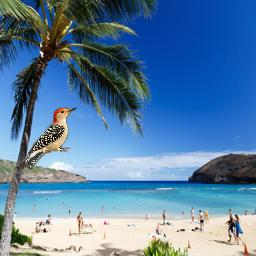Woodpecker: (18, 107, 77, 170)
